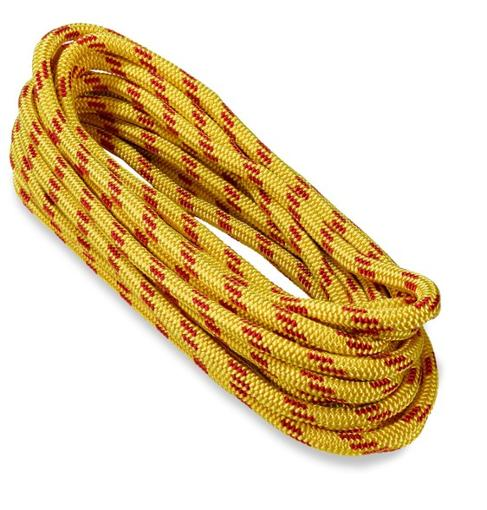Nonrec_Tangler: (5, 25, 437, 455)
